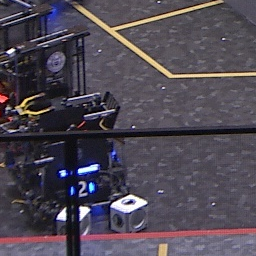Blue: (68, 180, 96, 197)
Robot: (1, 92, 131, 227), (1, 6, 90, 126)
